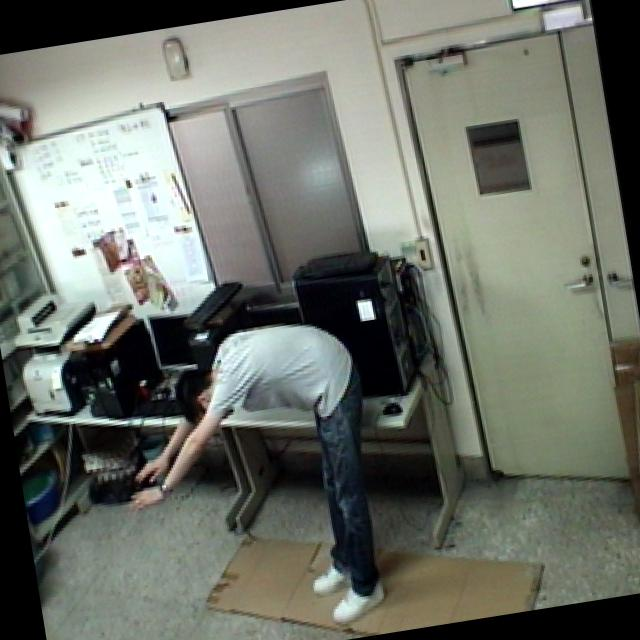bend: (104, 309, 415, 640)
